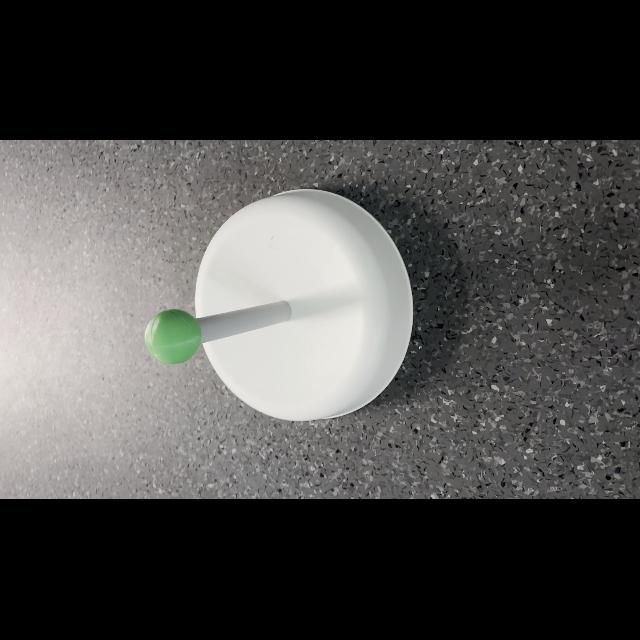objects: (141, 305, 203, 369)
